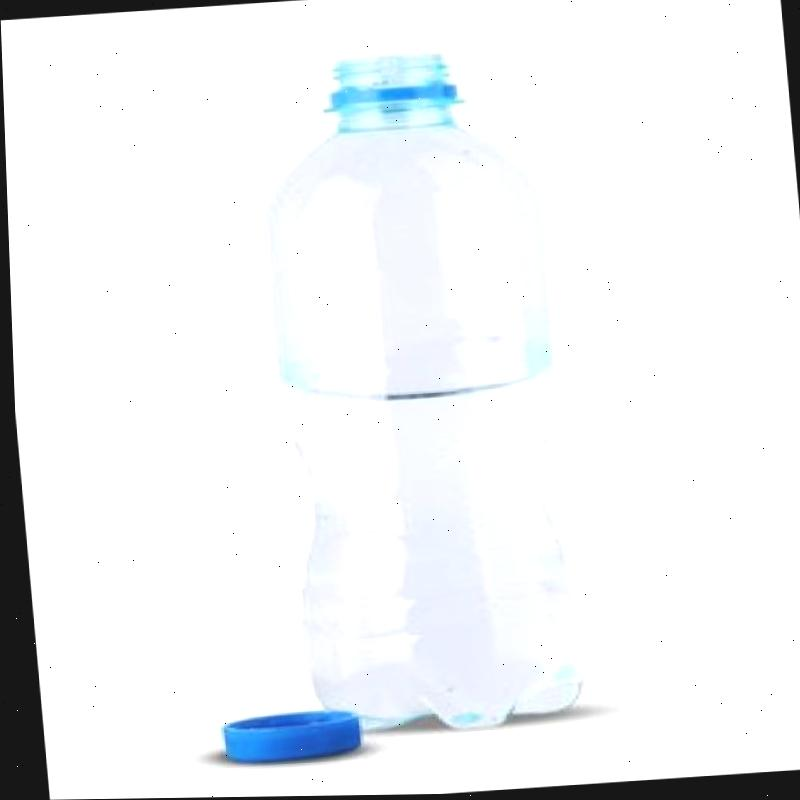botella: (247, 39, 588, 742)
